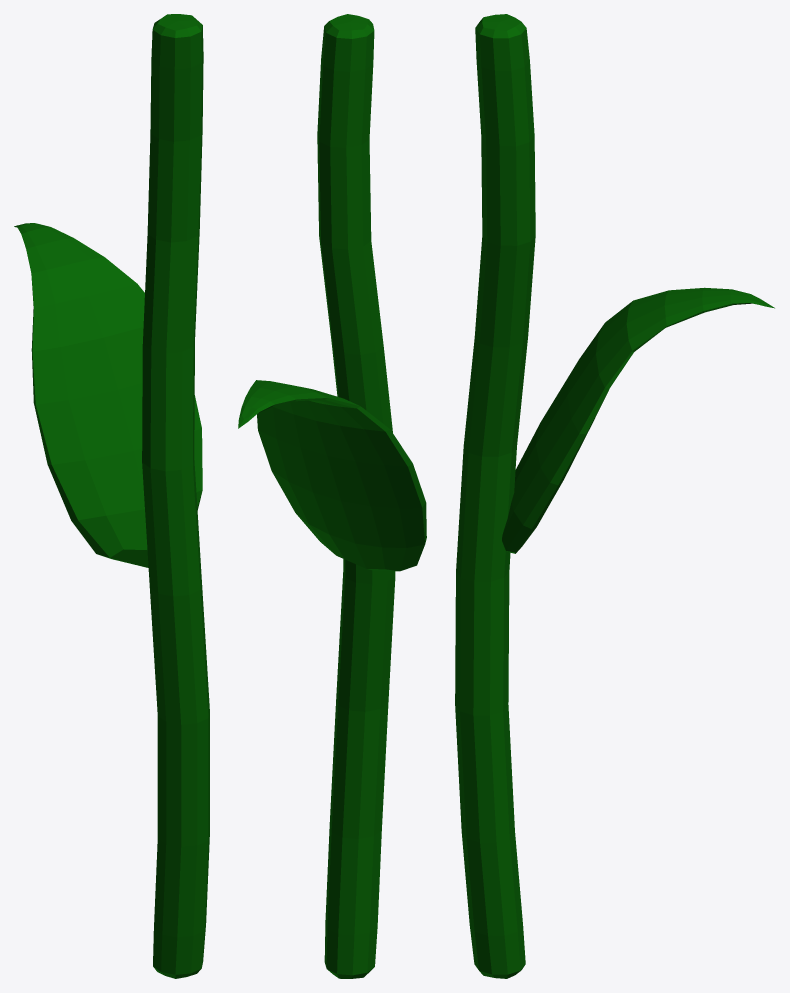
File: Stalk.fbx
3 renders of one model, left to right at view 1: azimuth 30°, elevation 25°; view 2: azimuth 150°, elevation 25°; view 3: azimuth 270°, elevation 25°, orthographic.
Visible parts, largest first — view 1: Cylinder, Sphere.002; view 2: Cylinder, Sphere.002; view 3: Cylinder, Sphere.002.
Boxes of the visible parts, bbox=[...] form: Cylinder: bbox=[142, 14, 209, 978]; Sphere.002: bbox=[14, 223, 202, 567]; Cylinder: bbox=[317, 14, 395, 978]; Sphere.002: bbox=[238, 380, 426, 571]; Cylinder: bbox=[455, 14, 535, 978]; Sphere.002: bbox=[502, 287, 774, 553].
Bounding box in the file's own units: 61.19 × 363 × 111.
